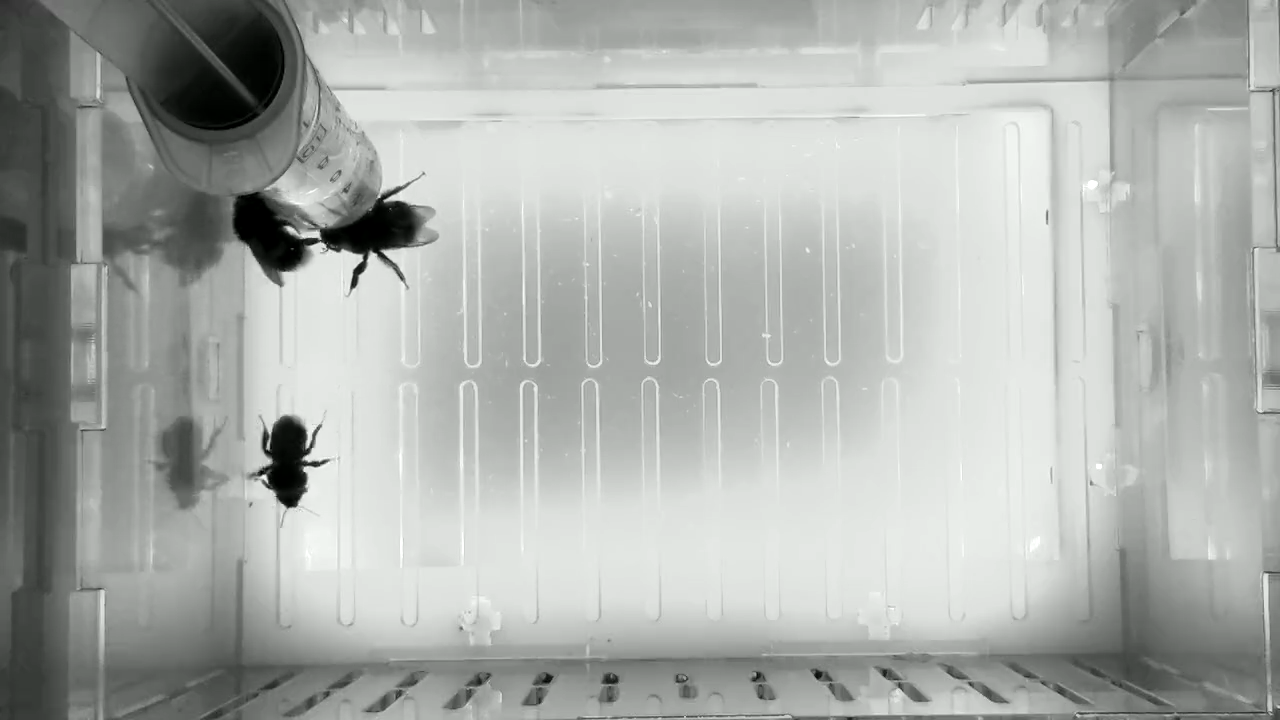bee_alive: (313, 167, 442, 299), (250, 407, 342, 527), (229, 186, 327, 293)
feeder: (255, 76, 382, 232)
